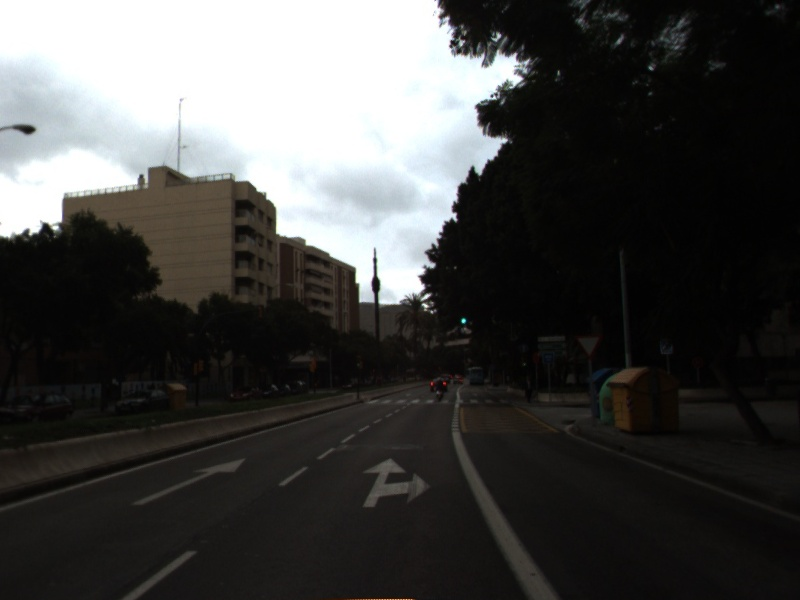STRAIGHT: (130, 455, 249, 508)
STRAIGHT_RIGHT: (359, 455, 435, 510)
